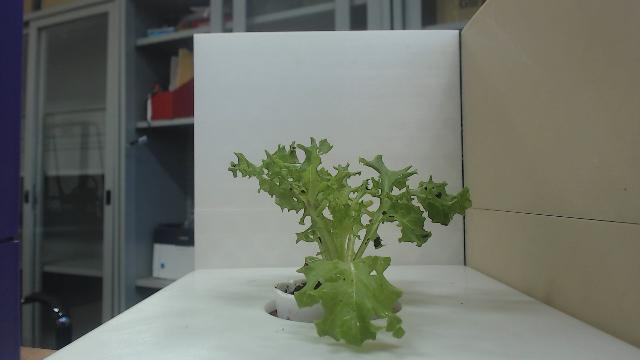Vegetative Stage: (228, 136, 474, 348)
